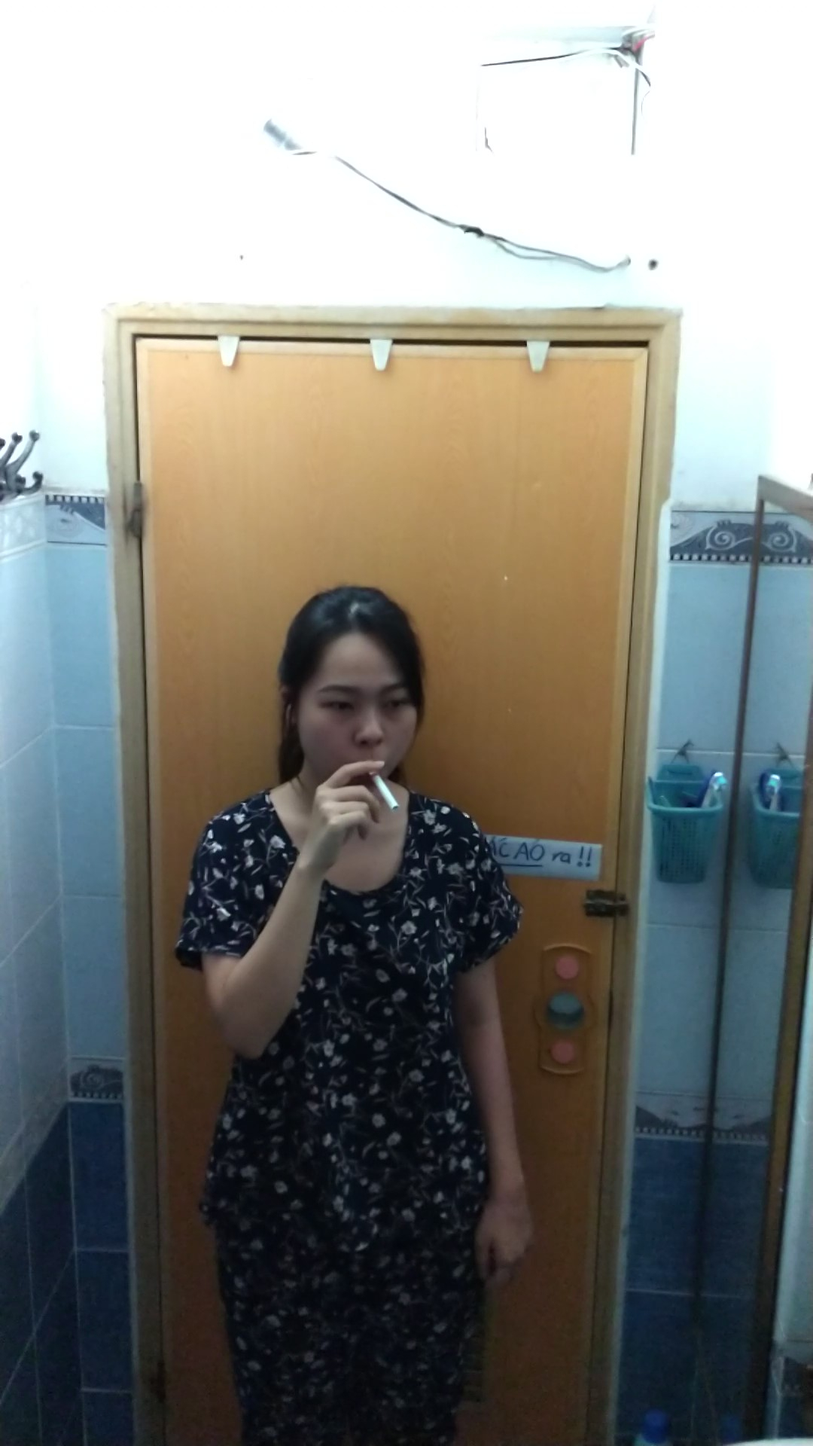cigarette: (366, 770, 400, 813)
person: (172, 582, 550, 1446)
